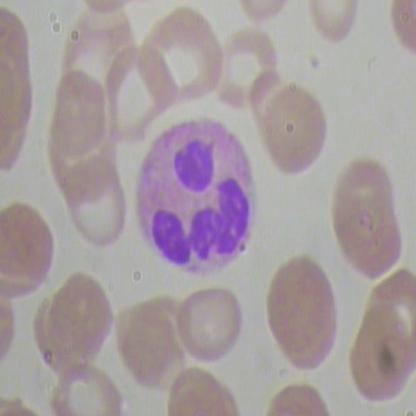RBC: (330, 150, 404, 288), (262, 256, 344, 373), (134, 7, 226, 107), (89, 48, 177, 150), (346, 310, 416, 415), (258, 86, 328, 183), (0, 196, 62, 302), (174, 288, 249, 366), (61, 171, 136, 249), (214, 29, 276, 118), (47, 358, 127, 415), (304, 1, 358, 51), (389, 1, 415, 67)
WBC: (123, 116, 263, 280)
